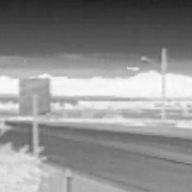Target: (126, 64, 140, 72)
